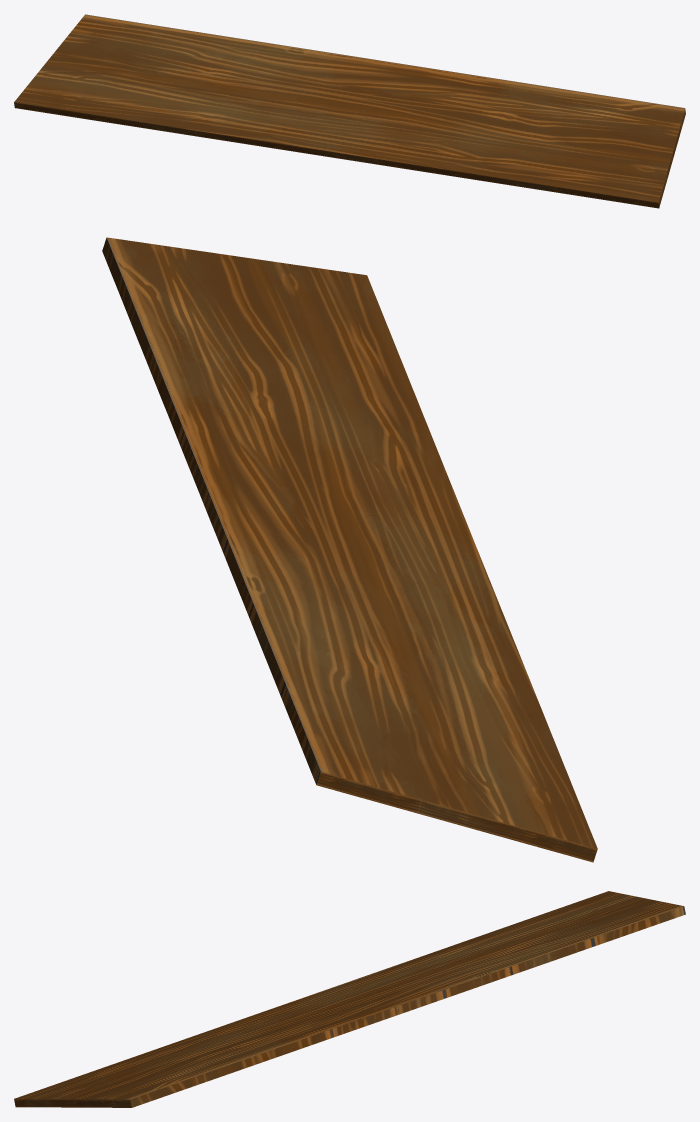
3 views of the same model, one above another, from view 1: azimuth 30°, elevation 25°; view 2: azimuth 150°, elevation 25°; view 3: azimuth 270°, elevation 25° (orthographic). The views are drawn at different scales.
Visible parts, largest first — view 1: Cube.643; view 2: Cube.643; view 3: Cube.643.
Part boxes in pixels (x1,y1,x2,y2): Cube.643: [14, 14, 685, 208]; Cube.643: [102, 237, 597, 862]; Cube.643: [14, 891, 685, 1107].
Bounding box in the file's own units: 1210 × 113 × 1362.
1 material, 1 textured.
